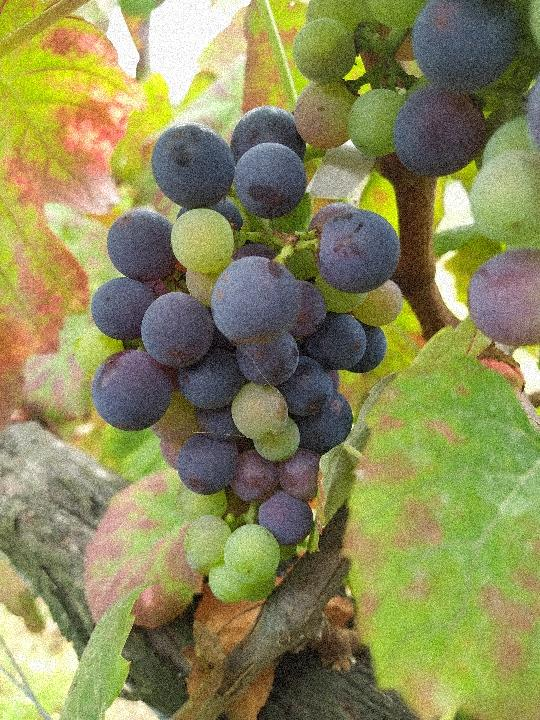grape: (86, 104, 410, 606)
